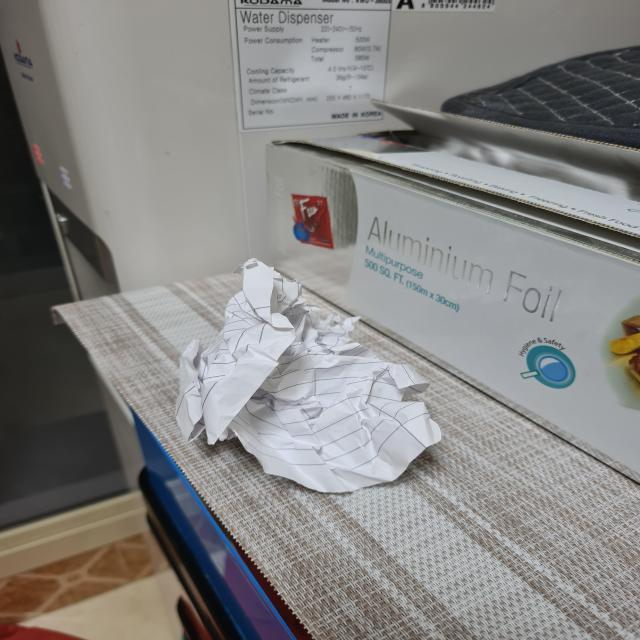trash: (186, 264, 434, 488)
